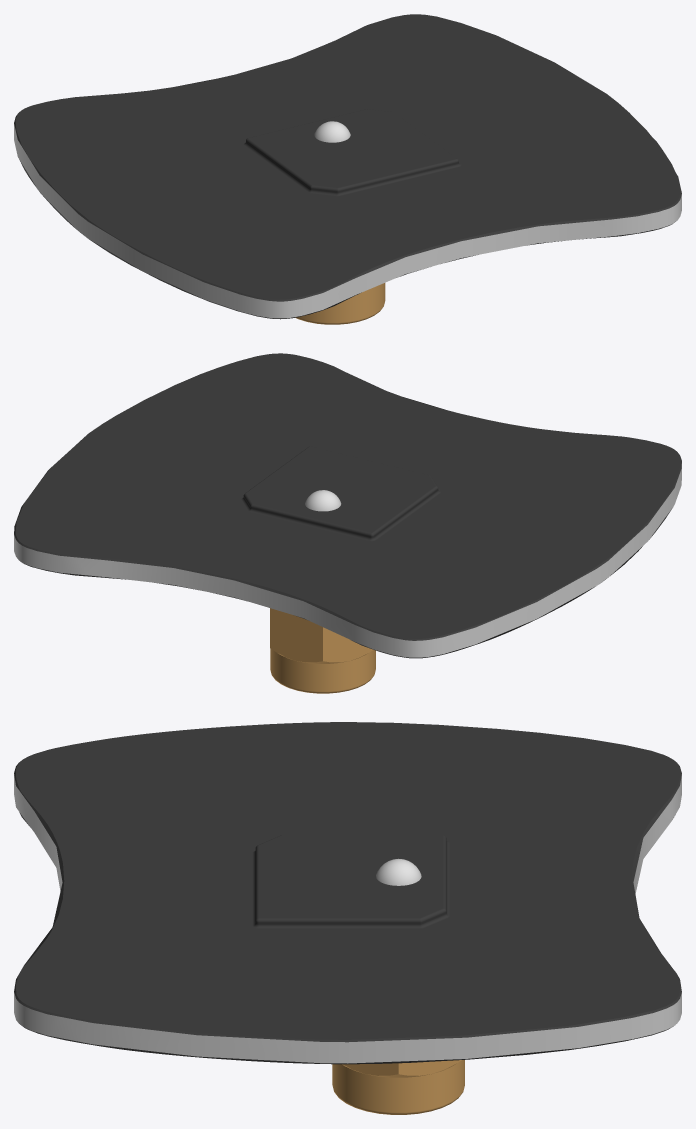
Rendered from patch_antenna.glb.
3 views of the same model, one above another, from view 1: azimuth 30°, elevation 25°; view 2: azimuth 150°, elevation 25°; view 3: azimuth 270°, elevation 25° (orthographic). The views are drawn at different scales.
Parts seen in each view (by area): view 1: PATCH; view 2: PATCH; view 3: PATCH.
Boxes of the visible parts, bbox=[...] form: PATCH: bbox=[14, 14, 681, 324]; PATCH: bbox=[14, 353, 681, 693]; PATCH: bbox=[14, 722, 681, 1114].
Bounding box in the file's own units: 4.5 × 1.49 × 3.98.
